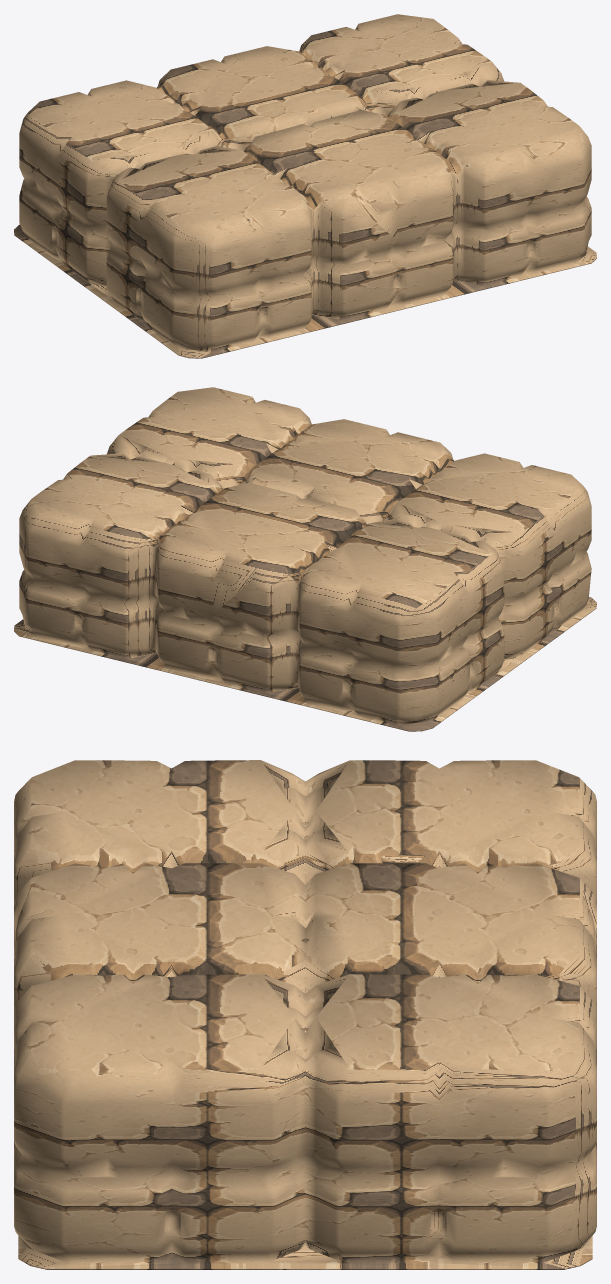
File: platform_textured.glb
3 views of the same model, one above another, from view 1: azimuth 30°, elevation 25°; view 2: azimuth 150°, elevation 25°; view 3: azimuth 270°, elevation 25° (orthographic). The views are drawn at different scales.
Visible parts, largest first — view 1: mesh_rep_0_ori_repair_quad; view 2: mesh_rep_0_ori_repair_quad; view 3: mesh_rep_0_ori_repair_quad.
Boxes of the visible parts, bbox=[...] form: mesh_rep_0_ori_repair_quad: bbox=[14, 14, 596, 358]; mesh_rep_0_ori_repair_quad: bbox=[14, 387, 596, 731]; mesh_rep_0_ori_repair_quad: bbox=[14, 760, 596, 1269].
Bounding box in the file's own units: 0.9662 × 0.2784 × 0.7398.
1 material, 1 textured.
